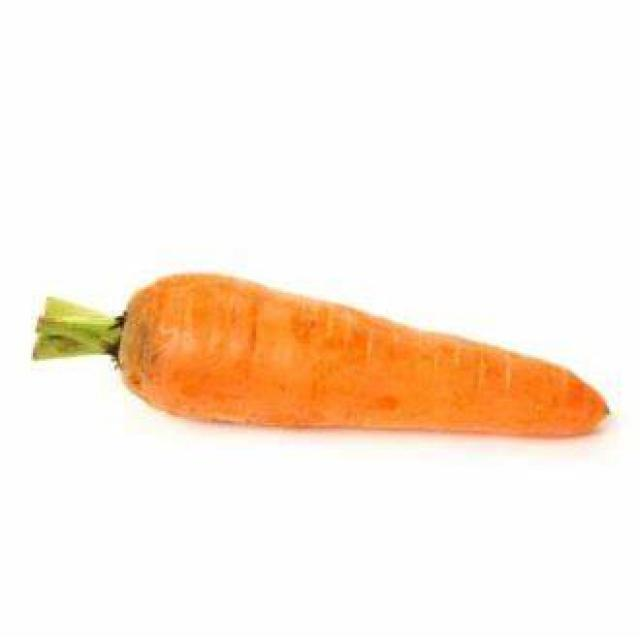Carrot: (21, 268, 623, 443)
